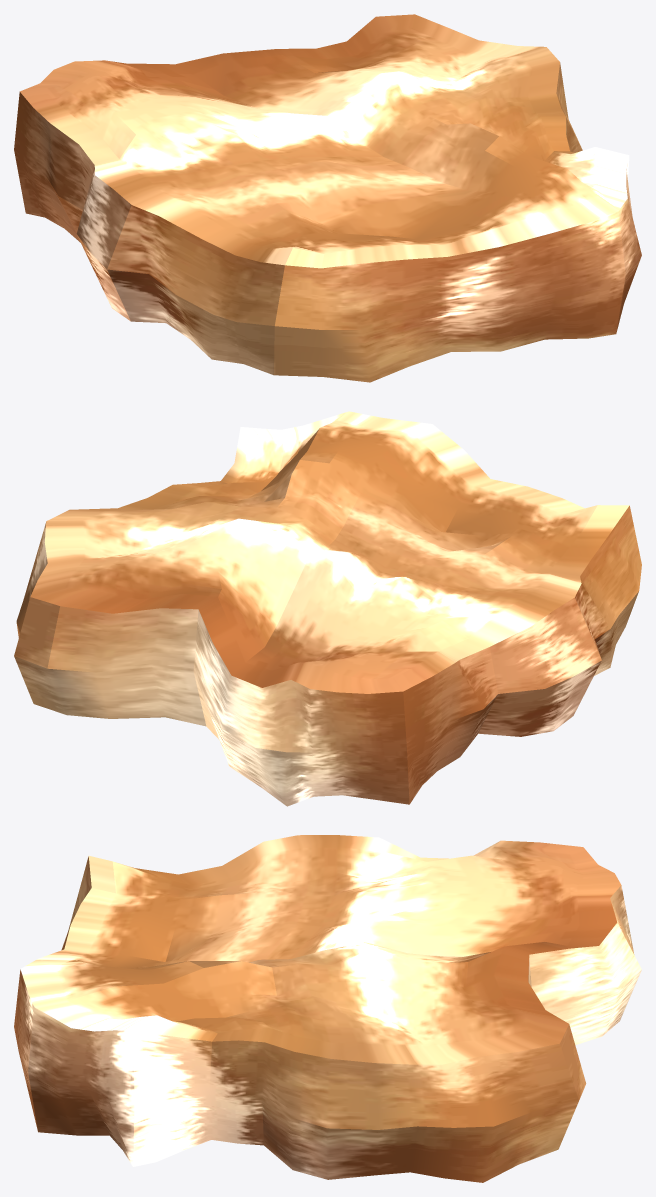
The model's file is platform_003.fbx.
3 views of the same model, one above another, from view 1: azimuth 30°, elevation 25°; view 2: azimuth 150°, elevation 25°; view 3: azimuth 270°, elevation 25° (orthographic).
Visible parts, largest first — view 1: Platform.003; view 2: Platform.003; view 3: Platform.003.
Part boxes in pixels (x1=…): Platform.003: x1=14, y1=14, x2=641, y2=382; Platform.003: x1=14, y1=411, x2=641, y2=806; Platform.003: x1=14, y1=835, x2=641, y2=1182.
Size of the model in its own units: 287 by 96.9 by 307.
